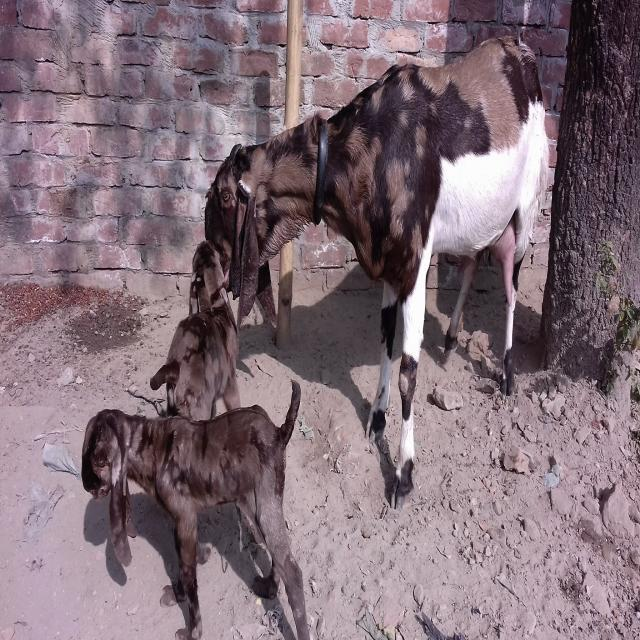Goat: (204, 33, 550, 510), (81, 379, 310, 639), (149, 238, 241, 422)
